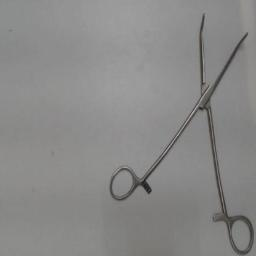Lahey Forceps: (105, 12, 255, 256)
